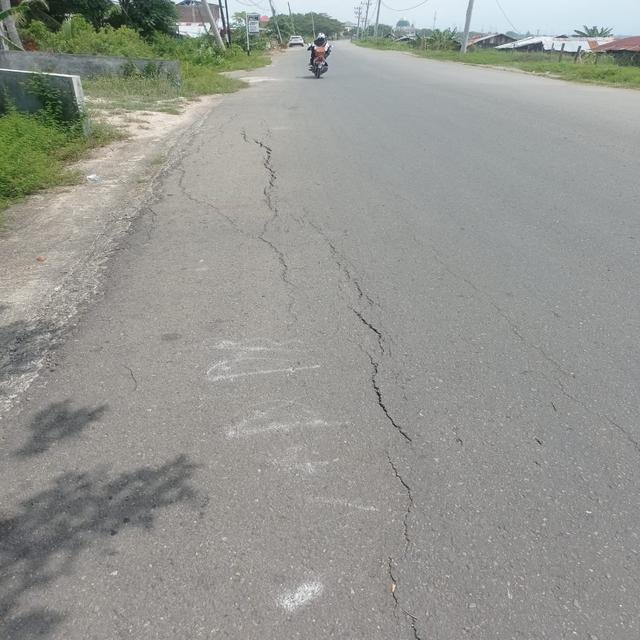Memanjang: (321, 237, 426, 640), (246, 118, 290, 256)
